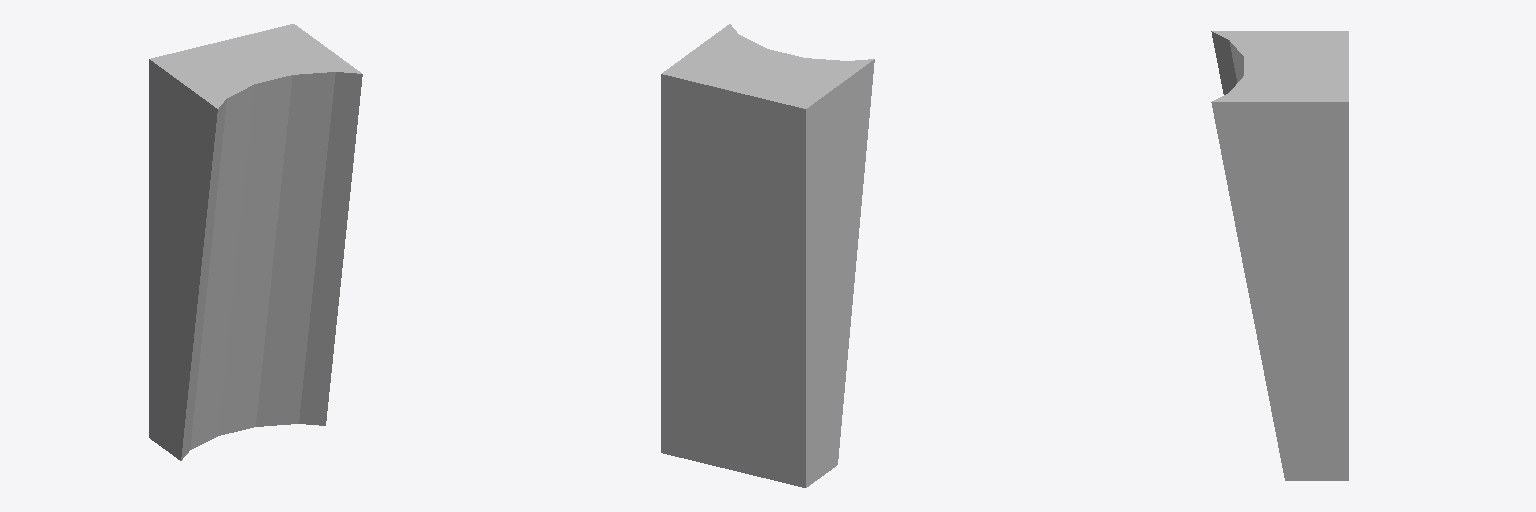
The model's file is fluidSample.obj.
3 views of the same model, side by side, from view 1: azimuth 30°, elevation 25°; view 2: azimuth 150°, elevation 25°; view 3: azimuth 270°, elevation 25° (orthographic).
Parts seen in each view (by area): view 1: Box01; view 2: Box01; view 3: Box01.
Boxes of the visible parts, <box> form: Box01: <box>149,24,362,460</box>; Box01: <box>661,24,874,487</box>; Box01: <box>1211,31,1348,480</box>.
Size of the model in its own units: 4 by 10 by 3.29.